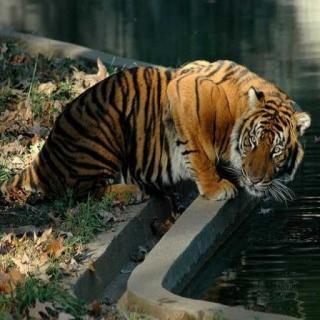Tiger: (15, 54, 312, 210)
